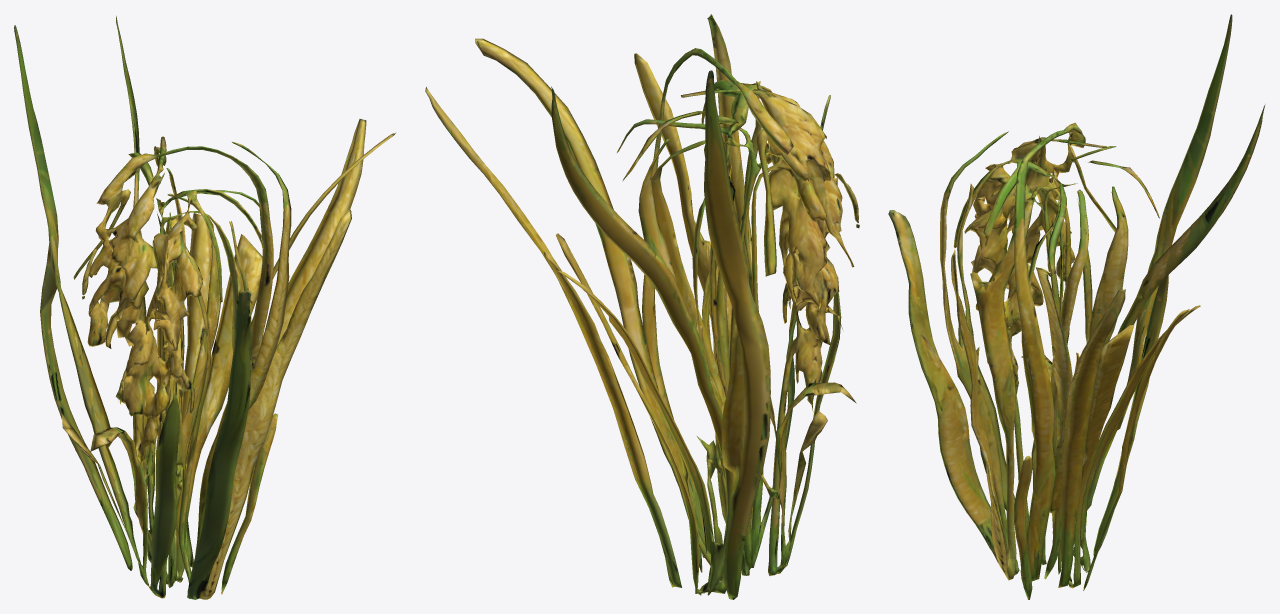
Rendered from _A_realistic_3D_model_0306111811_texture.fbx.
3 views of the same model, side by side, from view 1: azimuth 30°, elevation 25°; view 2: azimuth 150°, elevation 25°; view 3: azimuth 270°, elevation 25° (orthographic). The views are drawn at different scales.
Parts seen in each view (by area): view 1: Mesh1_Mesh1.092; view 2: Mesh1_Mesh1.092; view 3: Mesh1_Mesh1.092.
Boxes of the visible parts, x1,y1,x2,y2 form: Mesh1_Mesh1.092: [14, 16, 395, 599]; Mesh1_Mesh1.092: [425, 14, 859, 599]; Mesh1_Mesh1.092: [888, 14, 1265, 599].
Bounding box in the file's own units: 126 × 194 × 125.
Materials: 1 (1 with a texture image).
